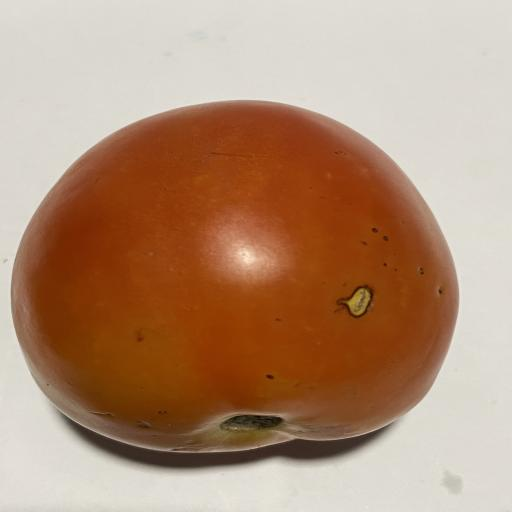unripe: (11, 101, 458, 453)
